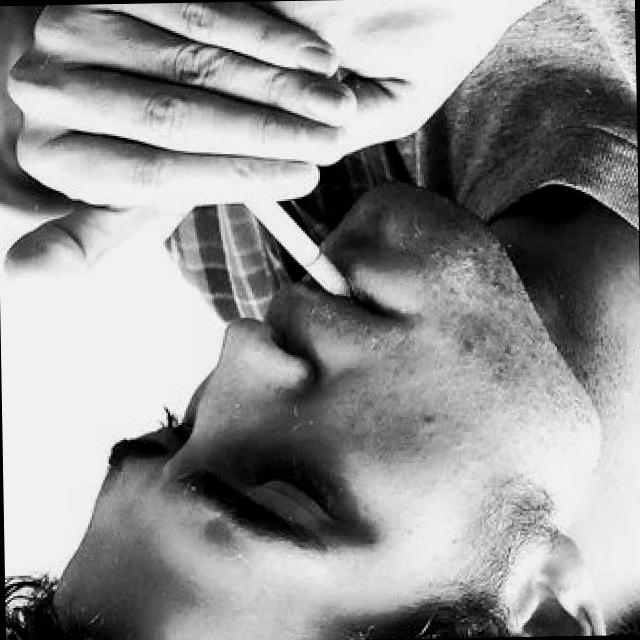smoke: (232, 186, 364, 312)
